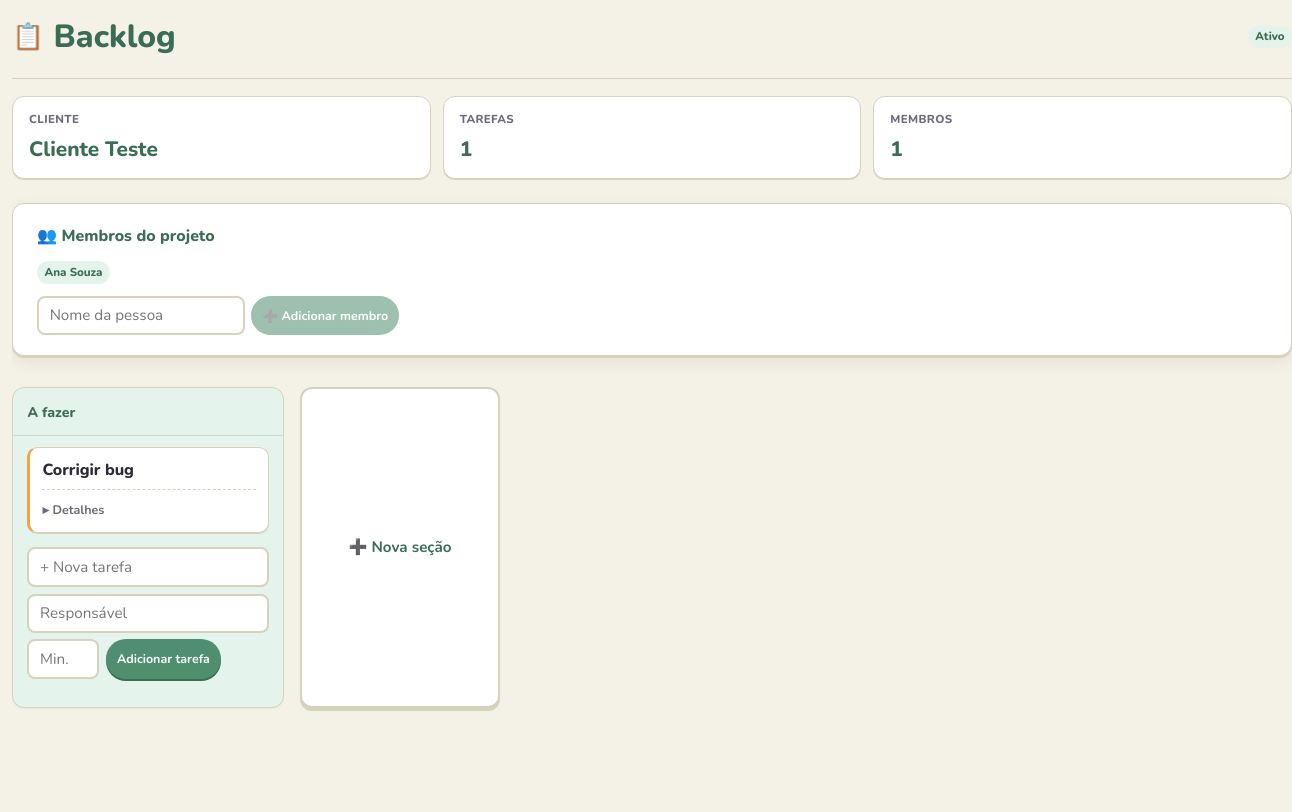
Test case: ProjetoDetalhePage › nome que não é de nenhuma pessoa cadastrada mostra "Pessoa não encontrada" e não deixa adicionar
The image size is (1292, 812).
expect the list item "Ana Souza" is shown: met, box [37,261,110,284]
Type "Alguém que não existe" into the dropdown named "adicionar membro". click: (141,315)
box: [37,296,245,335]
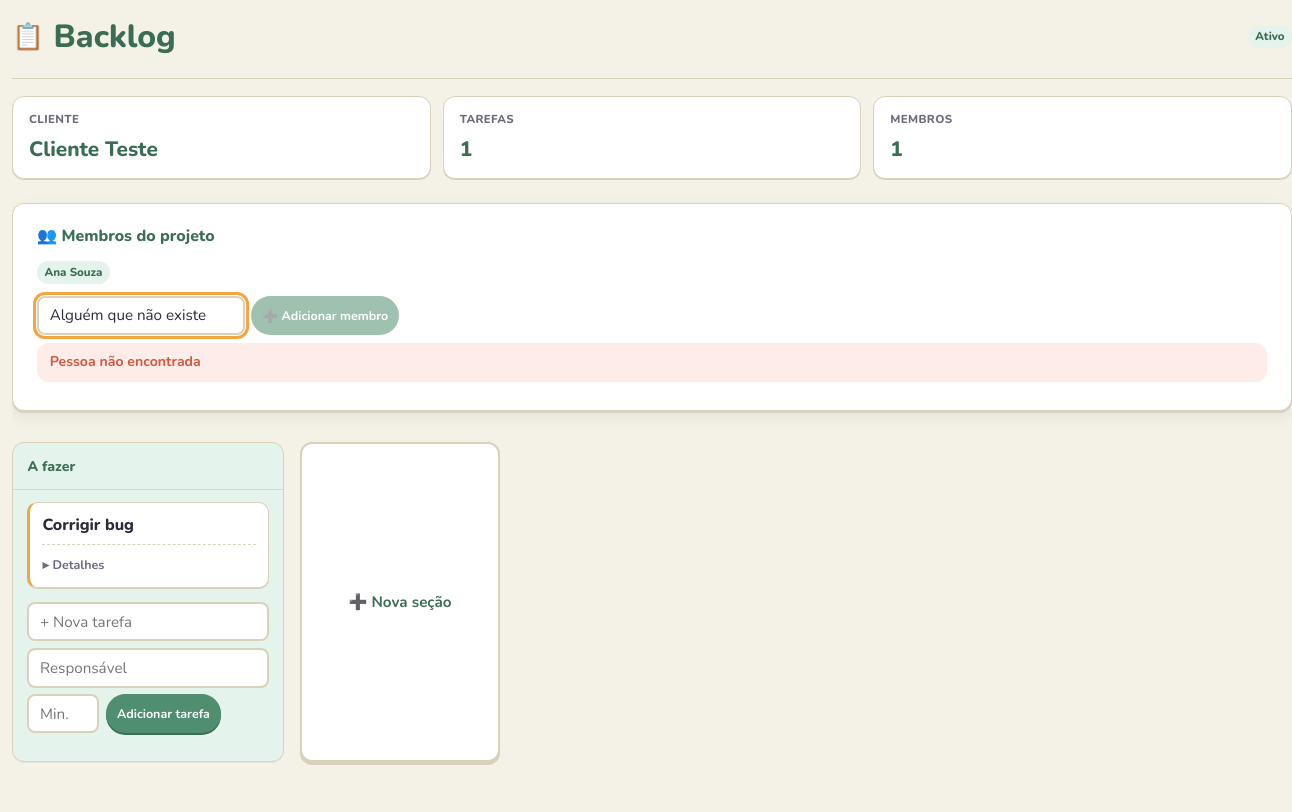
expect the button "➕ Adicionar membro" is disabled: met, box [251,296,399,335]
expect the text "Pessoa não encontrada" is shown: met, box [37,343,1267,382]
